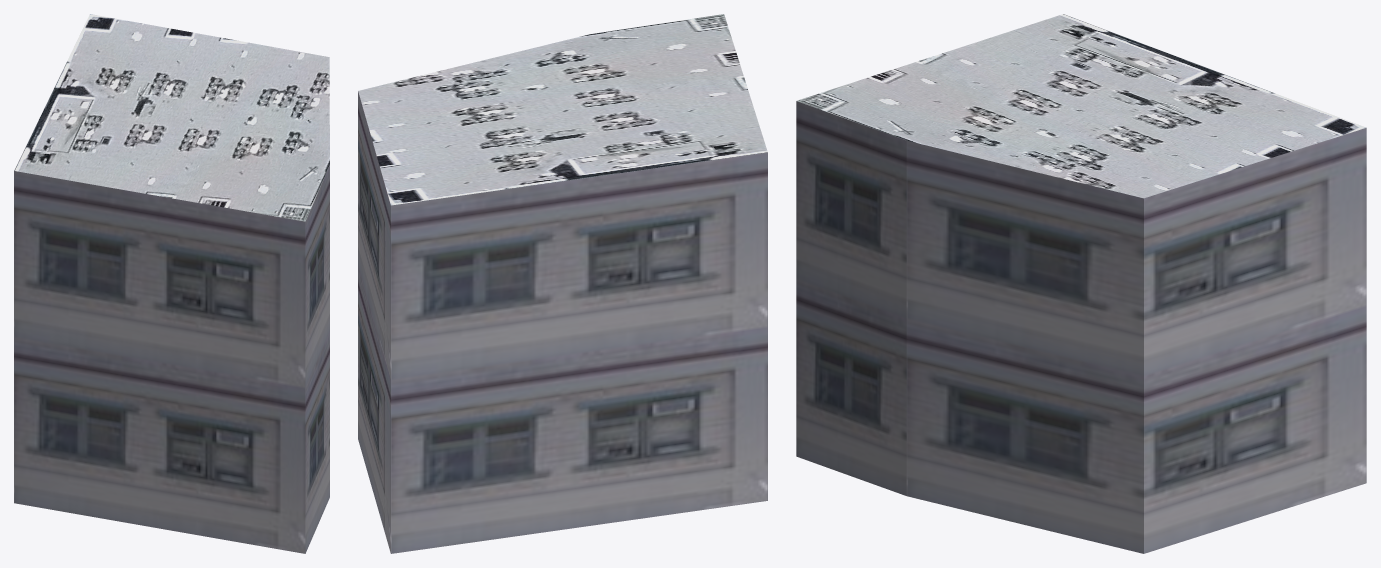
The model's file is ResTex__2529.fbx.
The picture shows the model from 3 angles, left to right: view 1: azimuth 30°, elevation 25°; view 2: azimuth 150°, elevation 25°; view 3: azimuth 270°, elevation 25°; orthographic projection. The views are drawn at different scales.
Parts seen in each view (by area): view 1: CityEngineMaterial_1_m, CityEngineMaterial_m; view 2: CityEngineMaterial_1_m, CityEngineMaterial_m; view 3: CityEngineMaterial_1_m, CityEngineMaterial_m.
Part boxes in pixels (<box>): CityEngineMaterial_1_m: <box>14,165,329,553</box>; CityEngineMaterial_m: <box>14,14,329,221</box>; CityEngineMaterial_1_m: <box>358,91,767,553</box>; CityEngineMaterial_m: <box>358,14,767,205</box>; CityEngineMaterial_1_m: <box>796,101,1366,553</box>; CityEngineMaterial_m: <box>797,14,1366,198</box>.
Size of the model in its own units: 6.67 by 6 by 8.73.
Materials: 2 (2 with a texture image).
